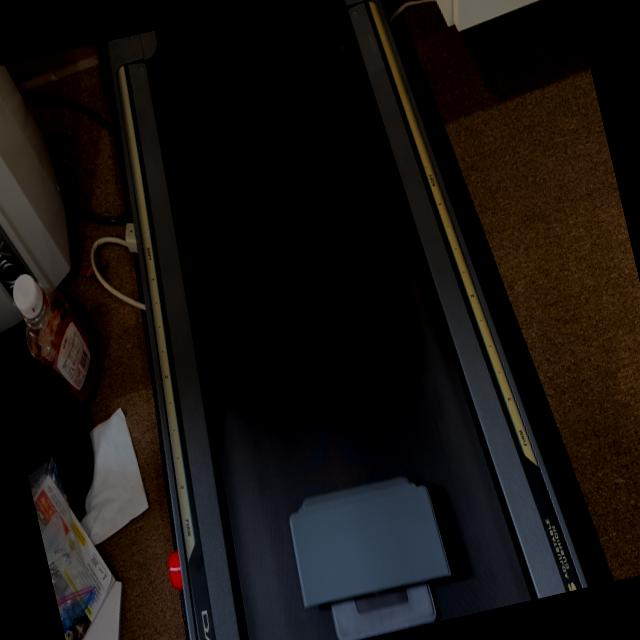Trash: (279, 466, 462, 640)
